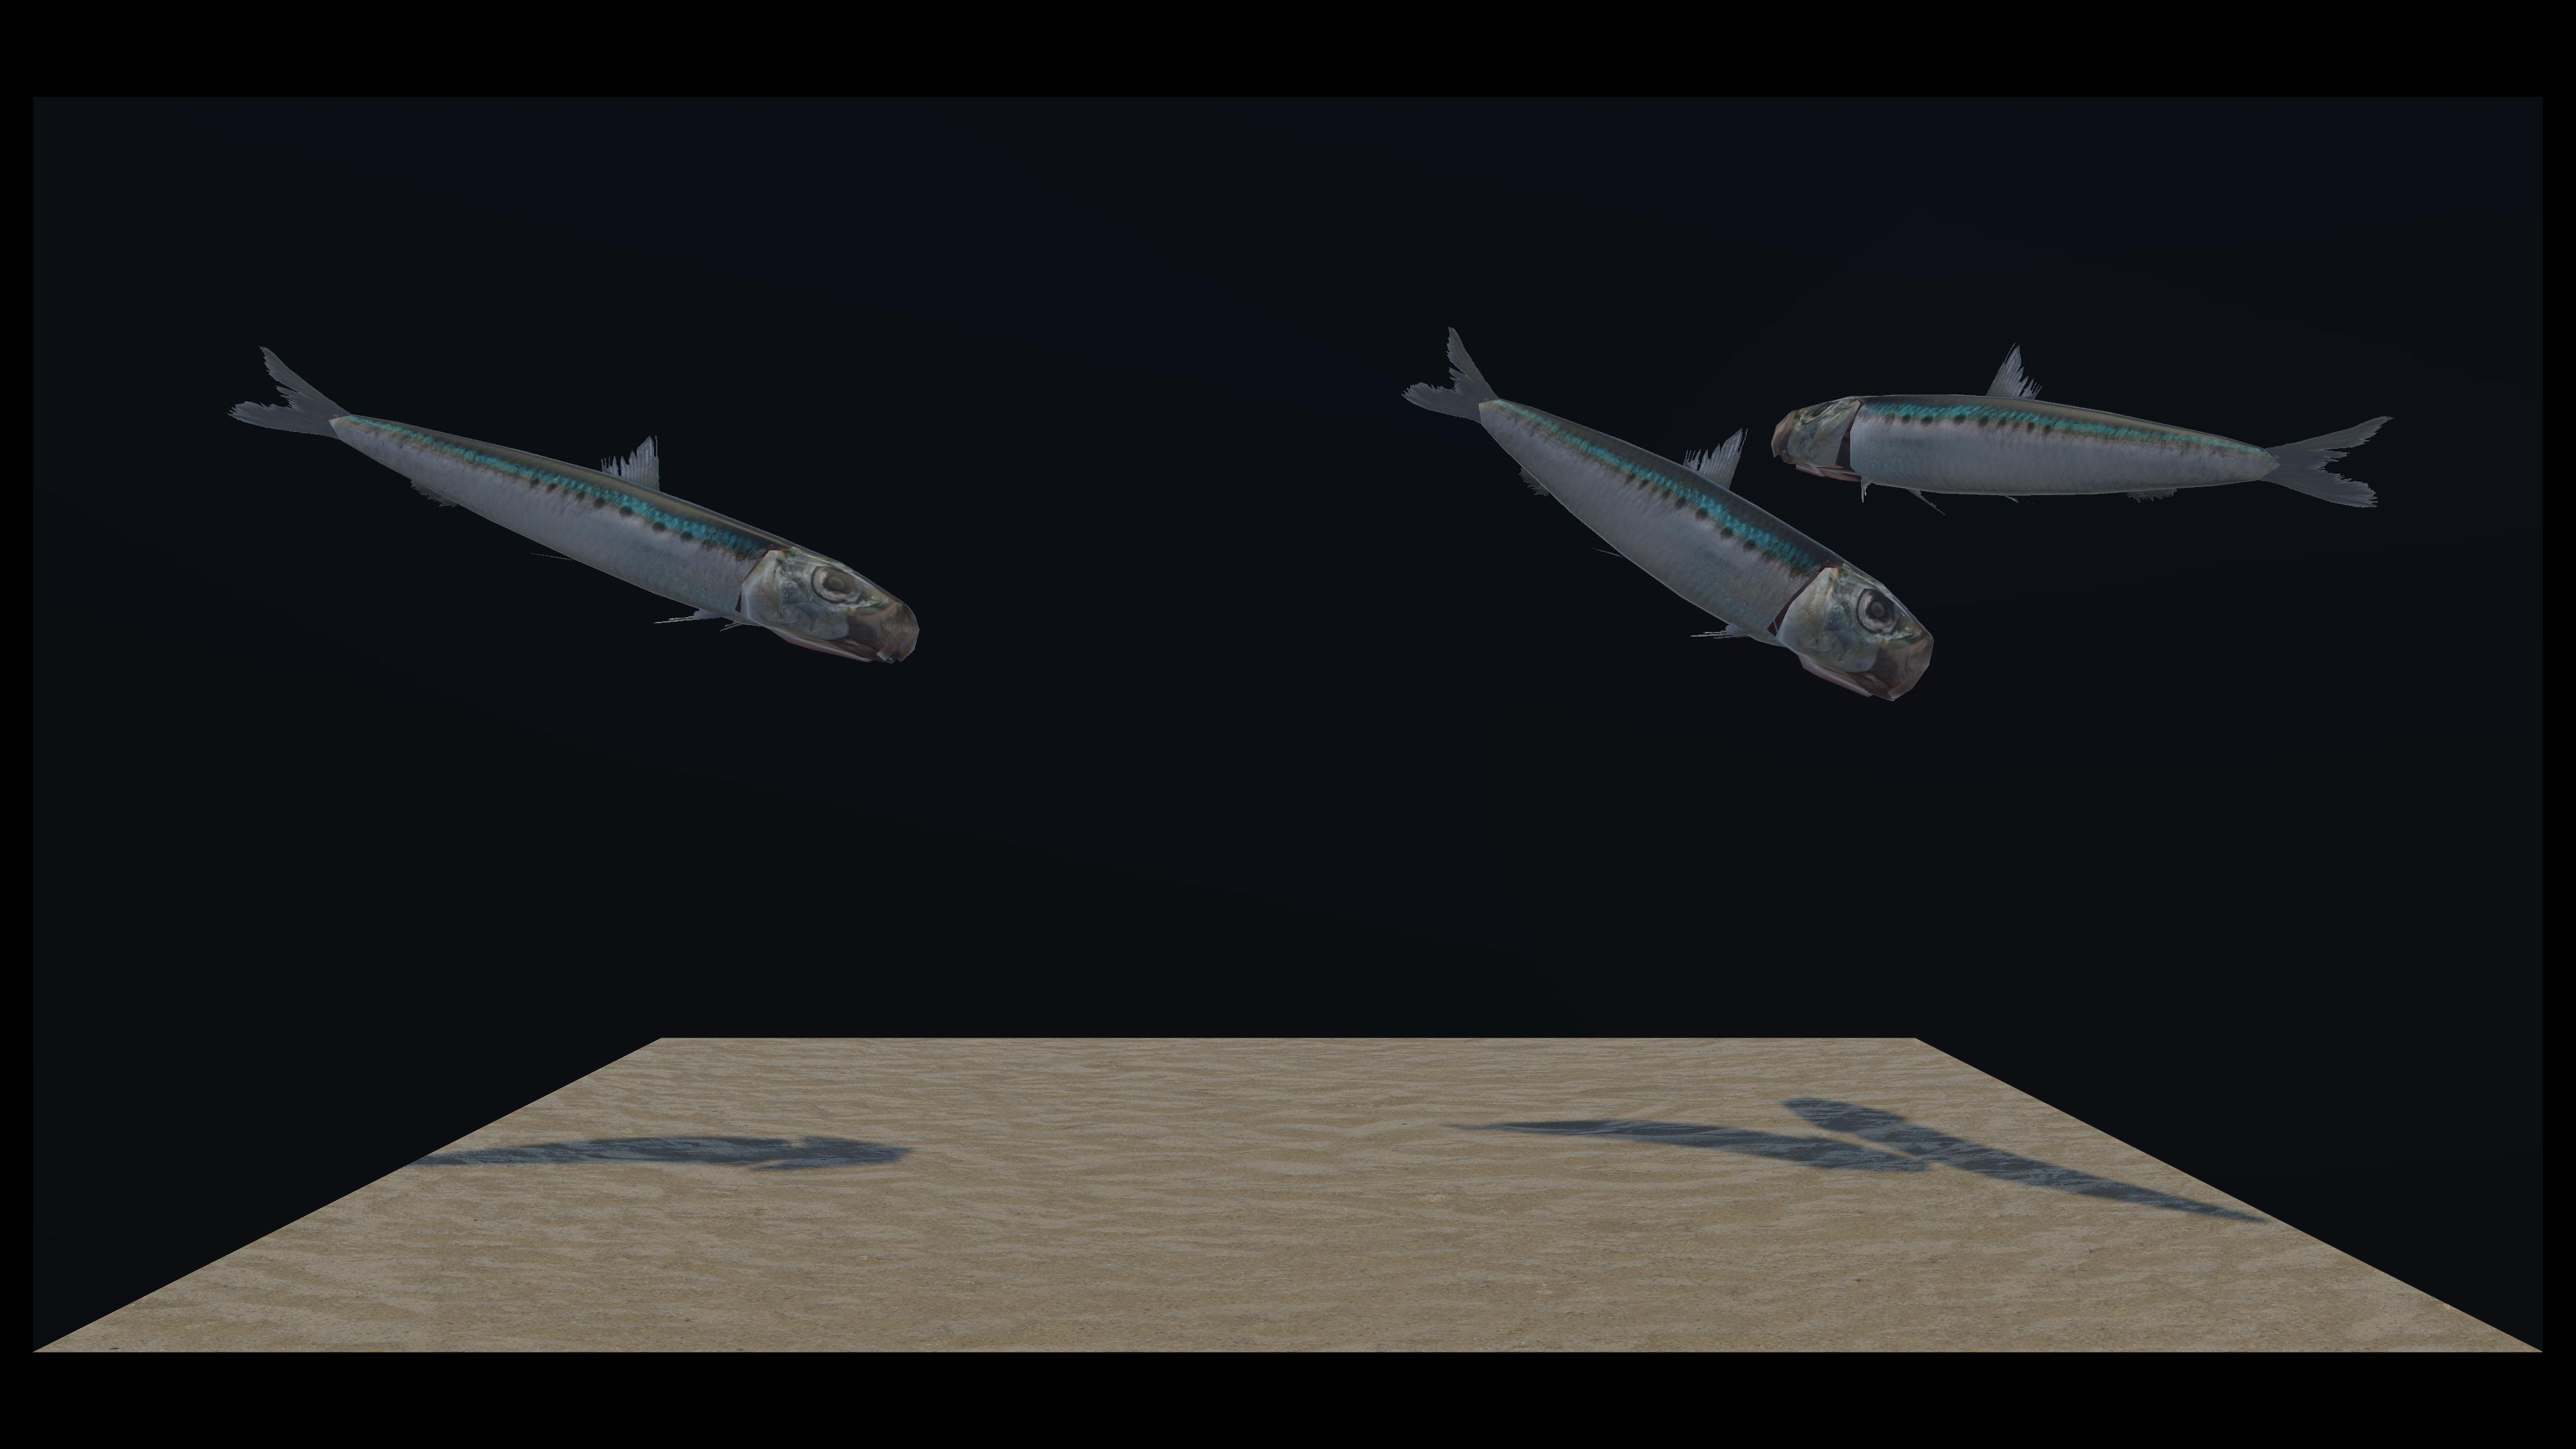Sardine_Front: (796, 329, 1928, 644), (892, 349, 2388, 557), (241, 347, 916, 642)
